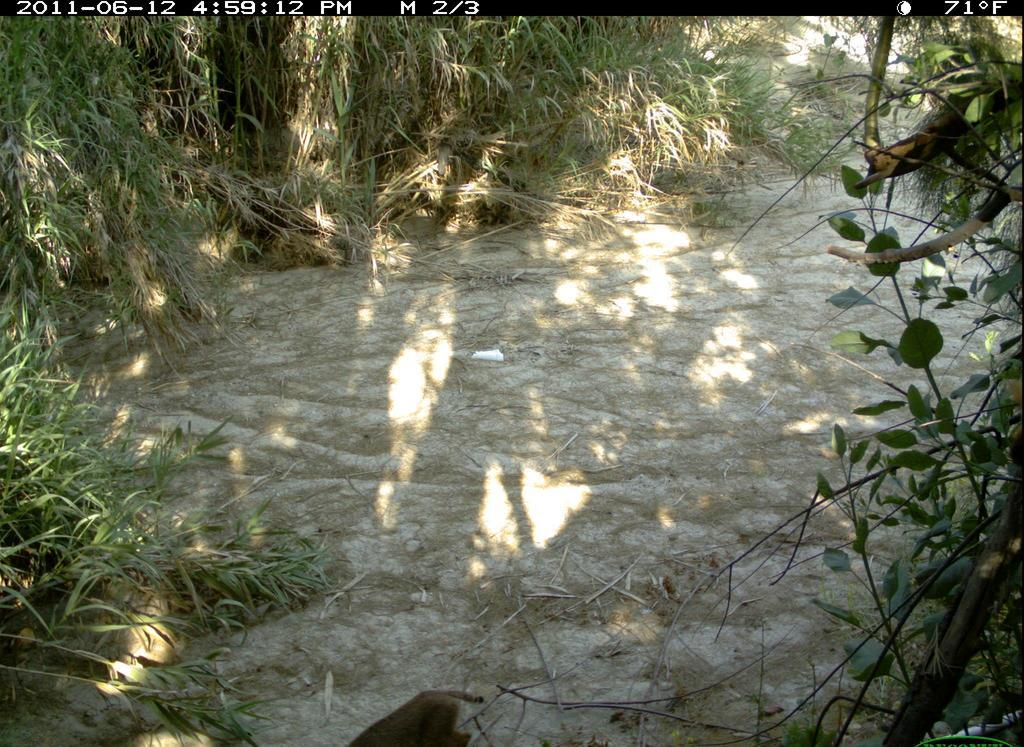bobcat: (333, 685, 500, 747)
